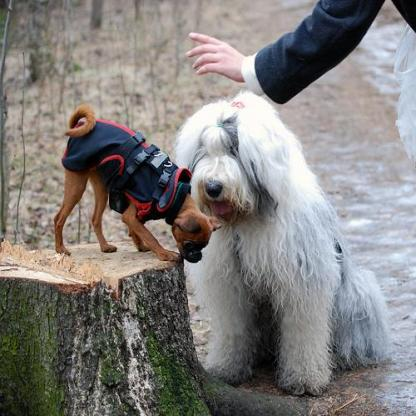Old_English_sheepdog: (168, 86, 396, 398)
